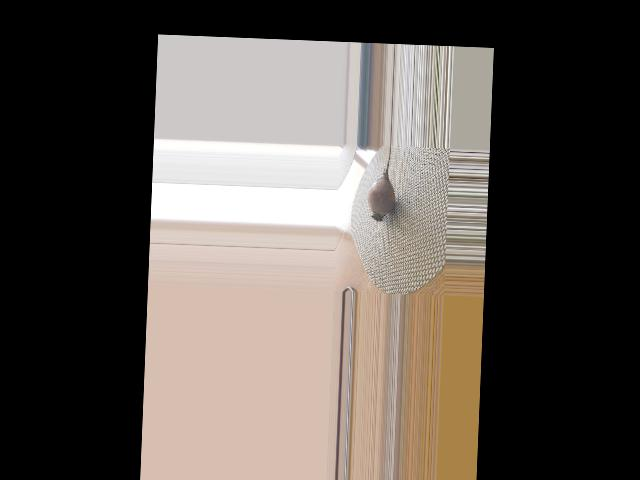beet: (366, 145, 396, 222)
